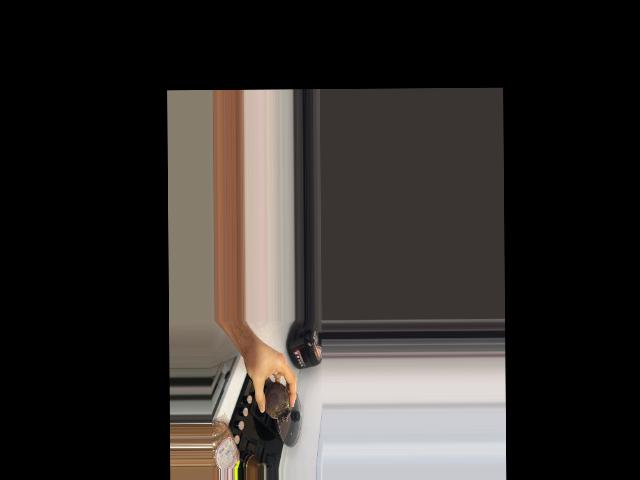beet: (264, 379, 289, 422)
